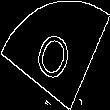O_SW: (31, 21, 79, 89)
